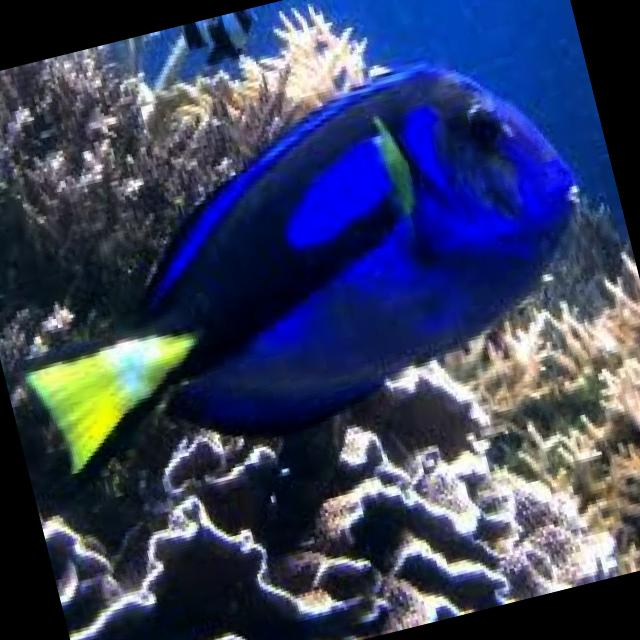TangFish: (0, 26, 625, 493)
